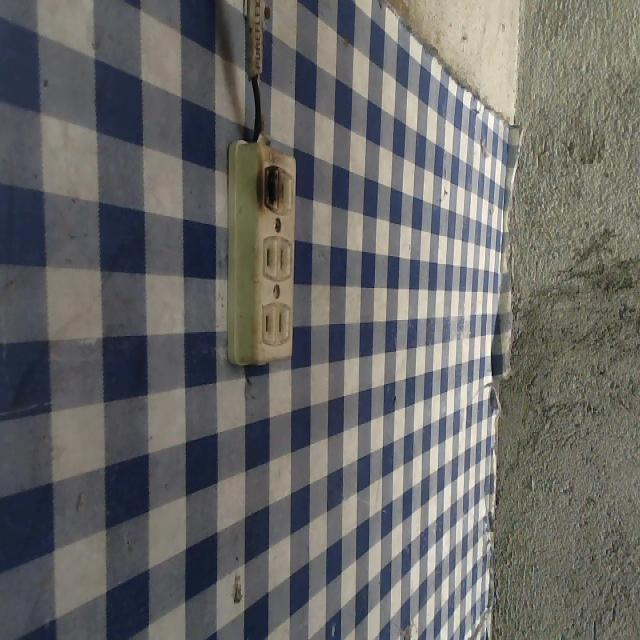-: (253, 159, 285, 216)
